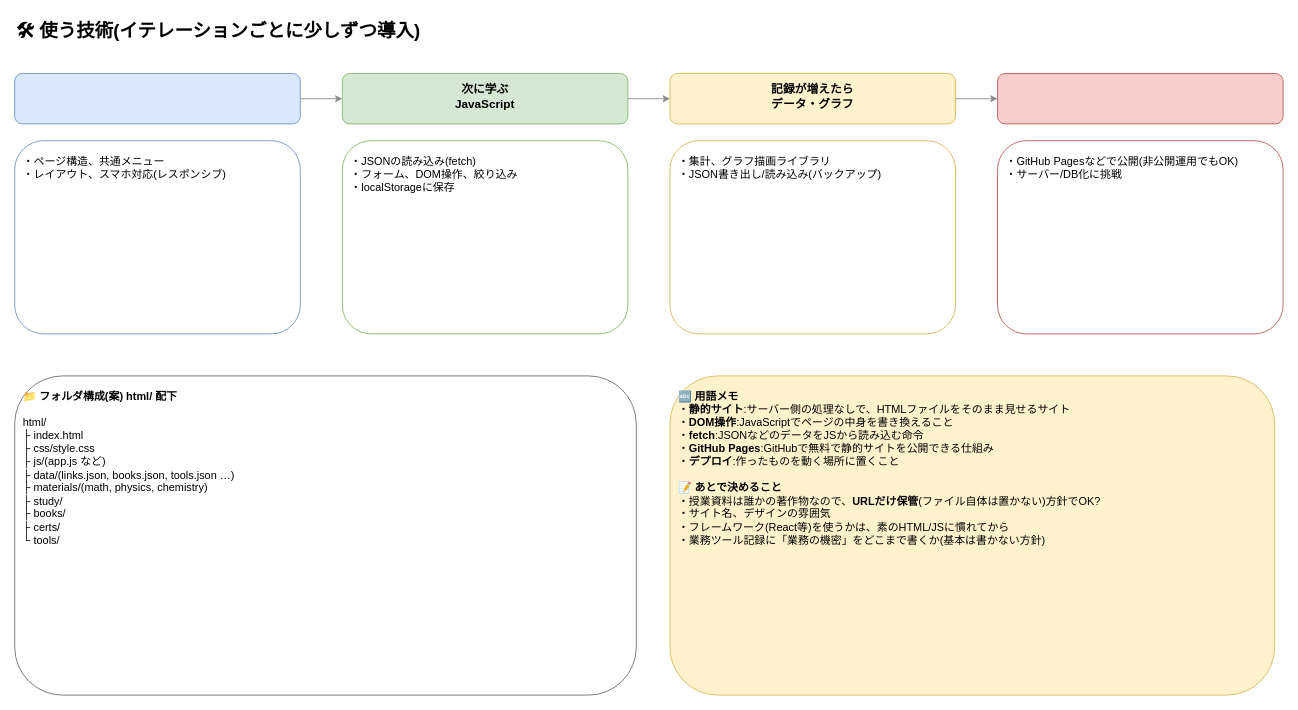
Some shapes in this 1298 by 710 pixel diagram are drawn without their labels. Each missing label, with the centre of its shape:
"余裕が出たら 公開・サーバー化" goes at pixel 1140 98.
"最初に学ぶ HTML / CSS" goes at pixel 157 98.
